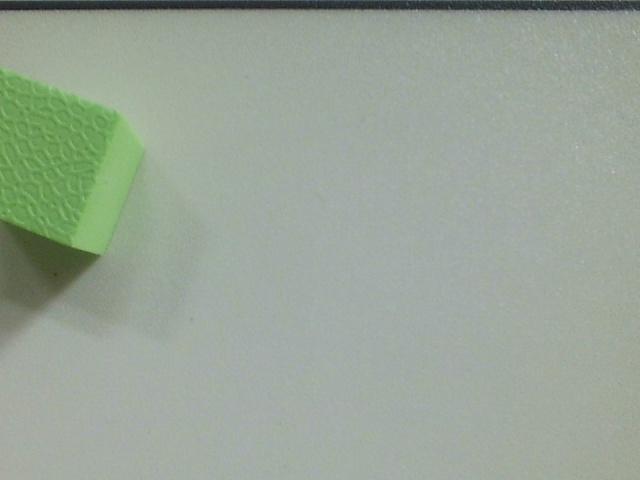greencube: (1, 60, 146, 266)
